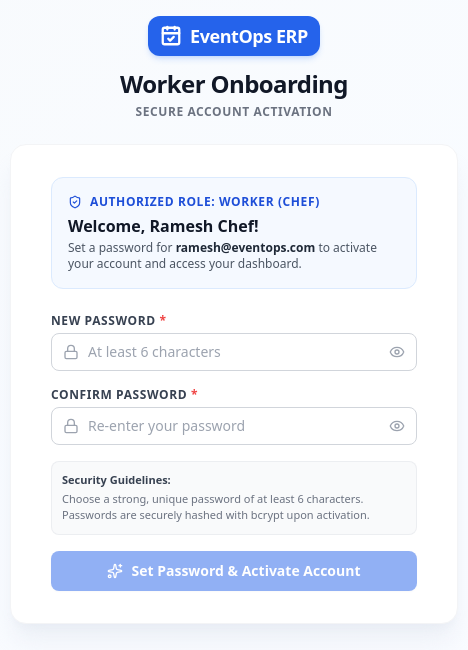
Scenario: AcceptInvitation Component › renders Worker Onboarding heading and role for worker invitation and activates successfully
The image size is (468, 650).
Expected: the heading "Worker Onboarding" is shown, left=120, top=67, right=348, bottom=100
Expected: the heading "Welcome, Ramesh Chef!" is shown, left=68, top=215, right=258, bottom=237
Step 1. Type "WorkerPass123" into the password field with placeholder "At least 6 characters" → (234,352), box left=51, top=333, right=417, bottom=371
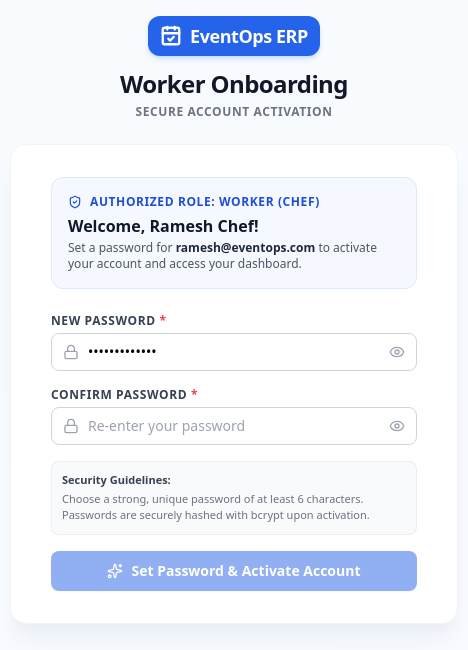
Step 2. Type "WorkerPass123" into the password field with placeholder "Re-enter your password" → (234,426), box left=51, top=407, right=417, bottom=445
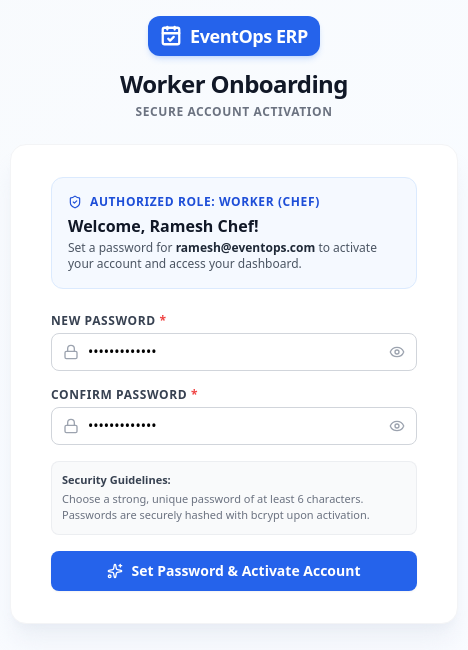
Step 3. Click the button "Set Password & Activate Account" → (234,571), box left=51, top=551, right=417, bottom=591
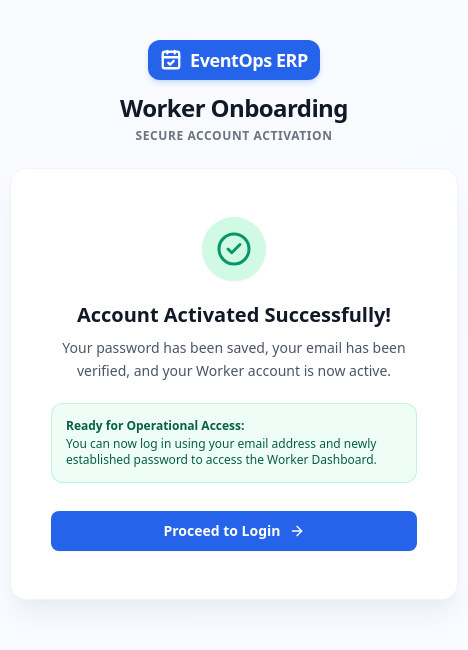
Now the heading "Account Activated Successfully!" is shown, box left=51, top=301, right=417, bottom=329
Now the text "your Worker account is now active" is shown, box left=51, top=337, right=417, bottom=383
